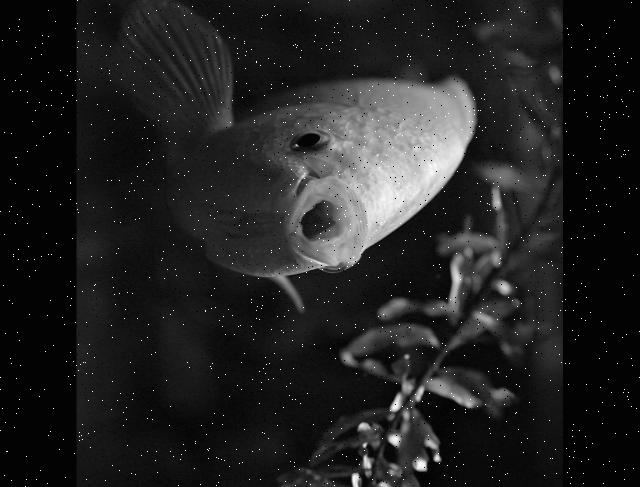Mulut: (260, 134, 383, 297)
Sirip Dada: (101, 0, 253, 167), (244, 270, 319, 333)
